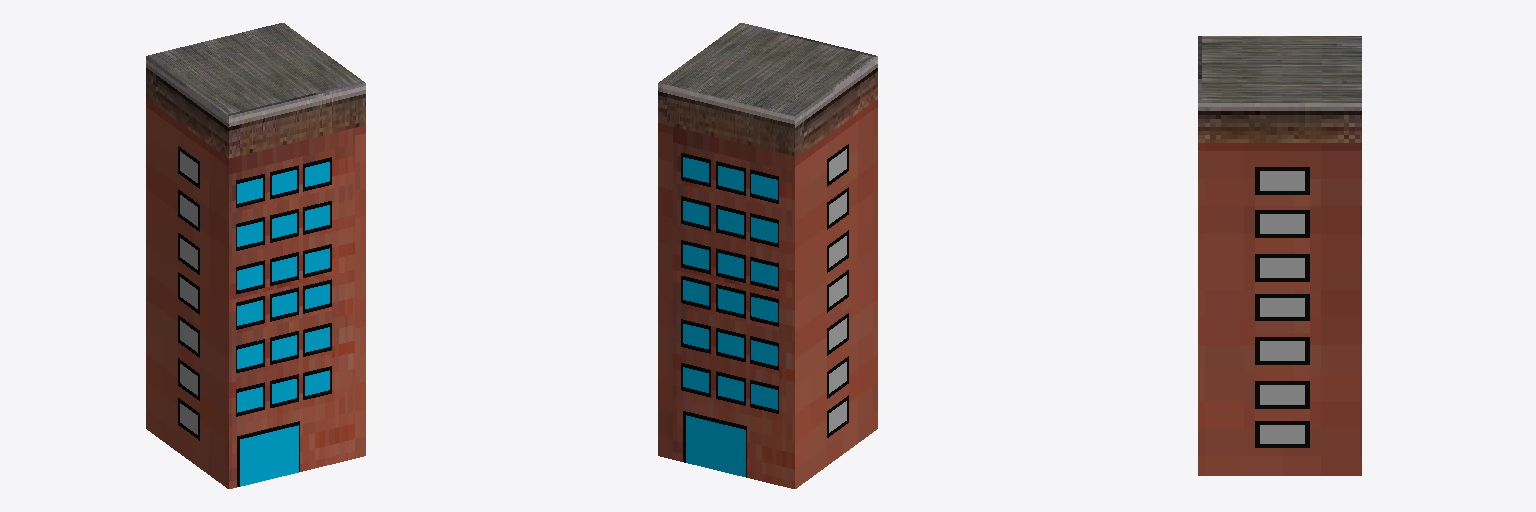
The picture shows the model from 3 angles: view 1: azimuth 30°, elevation 25°; view 2: azimuth 150°, elevation 25°; view 3: azimuth 270°, elevation 25°; orthographic projection.
Parts seen in each view (by area): view 1: front, right, top; view 2: back, right, top; view 3: left, top.
Part boxes in pixels (x1,y1,x2,y2): front: (229, 83, 365, 488); right: (146, 56, 228, 488); top: (147, 23, 364, 115); back: (658, 83, 794, 488); right: (795, 56, 877, 488); top: (659, 23, 876, 115); left: (1198, 103, 1361, 475); top: (1198, 36, 1361, 102).
Size of the model in its own units: 10.77 by 28.11 by 11.25.
1 materials, 1 textured.